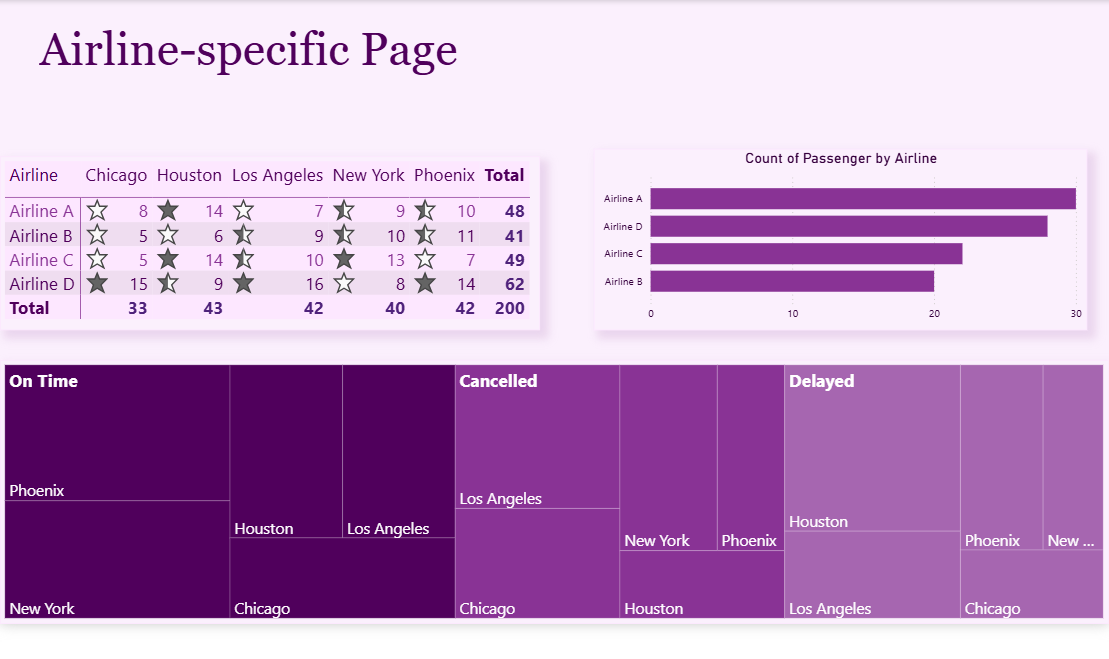

The dashboard page shown, as its layout file describes it:
{"tool":"powerbi","page":{"name":"Airline-specific Page","canvas":[1280,720],"ordinal":2},"visuals":[{"type":"pivotTable","title":"Distribution of Best Airline","fields":{"Rows":["flight_information.Airline"],"Columns":["flight_information.Destination"],"Values":["CountNonNull(flight_information.FlightID)"]},"box":[0,180.3,623.3,200.5],"z":0},{"type":"treemap","fields":{"Details":["flight_information.Destination"],"Values":["Calculations Using DAX.TotalFlights"],"Group":["flight_information.Status","flight_information.Airline"]},"box":[0,415.5,1279.7,304.4],"z":1000},{"type":"barChart","title":"Count of Passenger by Airline","fields":{"Y":["CountNonNull(passenger_information.PassengerID)"],"Category":["flight_information.Airline"]},"box":[685.3,171.7,569.9,209.2],"z":2000},{"type":"textbox","box":[40.4,21.6,541,77.9],"z":3000}]}

Visuals, with their boxes on the page's 1280x720 design canvas (x1, y1, x2, y2). These are canvas units, not pixel positions in the 1109x659 screenshot, which may show the page scaled, cropped or inside an application window:
"Distribution of Best Airline" pivotTable: [0,180,623,381]
treemap - flight_information.Destination x Calculations Using DAX.TotalFlights: [0,416,1280,720]
"Count of Passenger by Airline" barChart: [685,172,1255,381]
textbox: [40,22,581,100]
